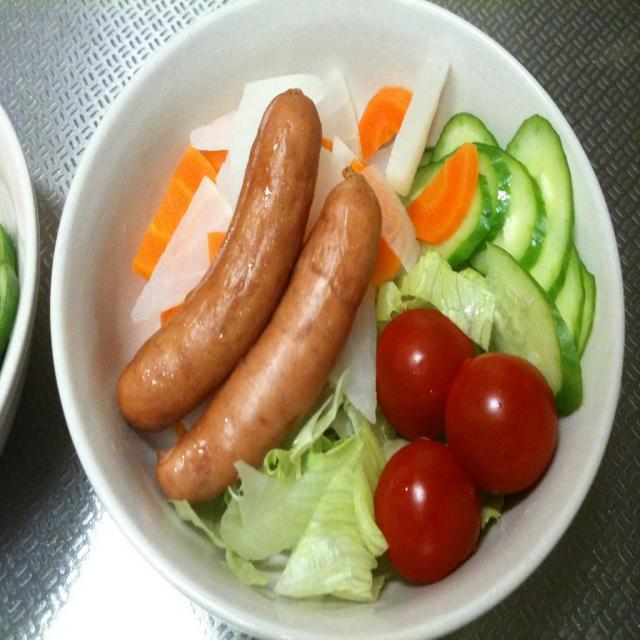Cucumber: (402, 110, 600, 408), (504, 111, 577, 300), (0, 261, 17, 357), (0, 224, 15, 258)
